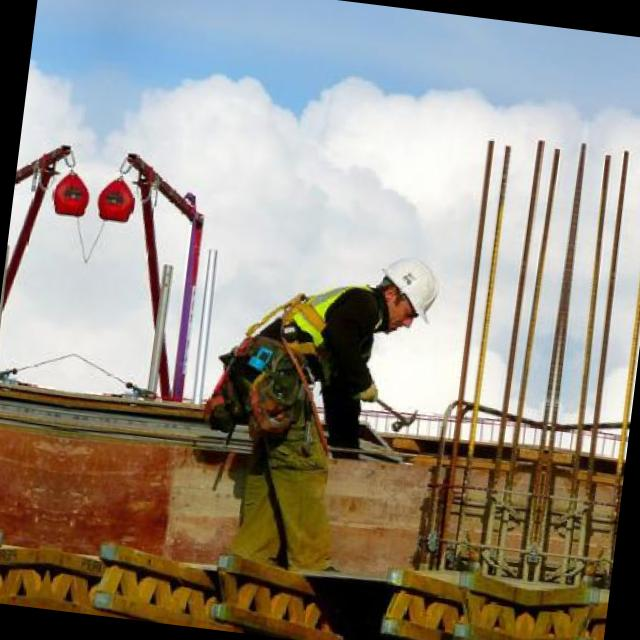helmet: (348, 228, 447, 341)
